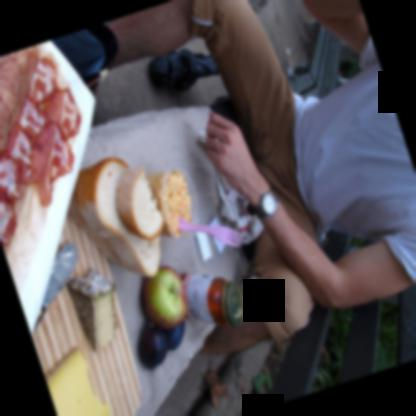backpack: (50, 24, 120, 95)
